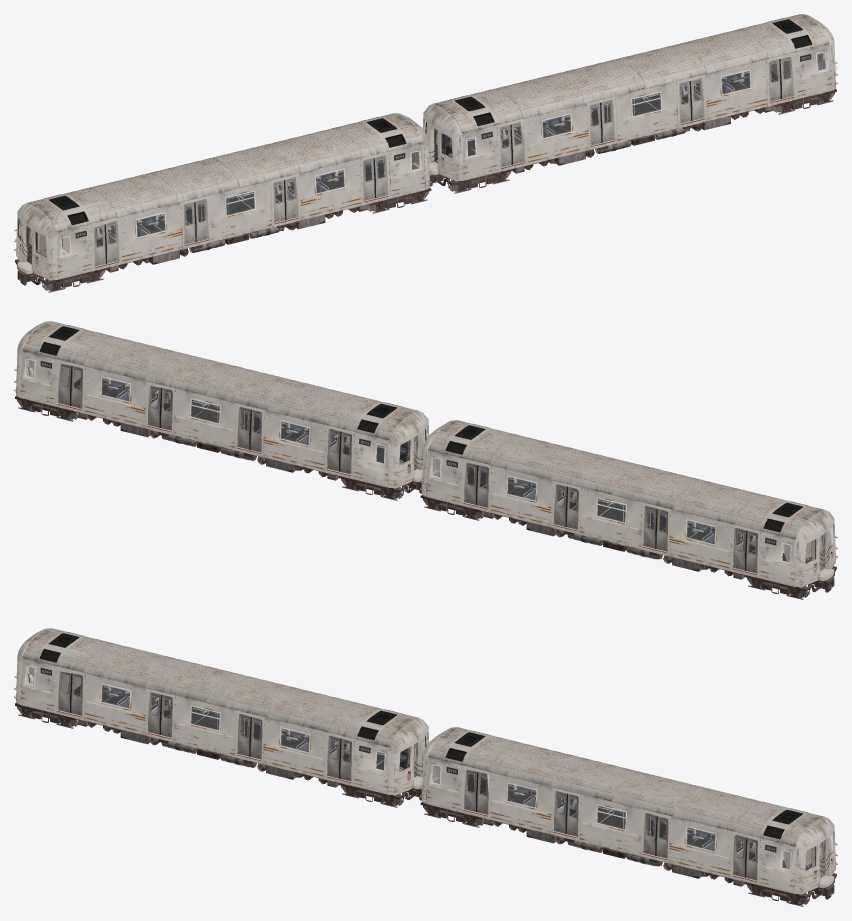
The model's file is r46-subway.glb.
3 views of the same model, one above another, from view 1: azimuth 30°, elevation 25°; view 2: azimuth 150°, elevation 25°; view 3: azimuth 330°, elevation 25° (orthographic).
Parts seen in each view (by area): view 1: AvisoCierrePuertas_LP.001_LateralTren_0, VentiladorTecho_LP.001_TechoTren_0, CristalesPuertasLaterales_LP.001_PuertasLaterales_0, EngancheCentralFrontalBajosExteriores2_LP.001_BajosExteriore, CabezaTren_LP.003_CabezaTren_0, SeparadoresSueloInterior_LP.001_SueloInterior_0, CojinAltoAsientoLateral5_LP.001_AsientosInteriores_0, CristalesFrontalesCabezaTren_LP.001_PuertaDelantera_0, RoofHex_LP.002_DriverCabin_0; view 2: AvisoCierrePuertas_LP.001_LateralTren_0, VentiladorTecho_LP.001_TechoTren_0, CristalesPuertasLaterales_LP.001_PuertasLaterales_0, EngancheCentralFrontalBajosExteriores2_LP.001_BajosExteriore, CabezaTren_LP.003_CabezaTren_0, SeparadoresSueloInterior_LP.001_SueloInterior_0, CojinAltoAsientoLateral5_LP.001_AsientosInteriores_0, CristalesFrontalesCabezaTren_LP.001_PuertaDelantera_0; view 3: AvisoCierrePuertas_LP.001_LateralTren_0, VentiladorTecho_LP.001_TechoTren_0, CristalesPuertasLaterales_LP.001_PuertasLaterales_0, EngancheCentralFrontalBajosExteriores2_LP.001_BajosExteriore, CabezaTren_LP.003_CabezaTren_0, SeparadoresSueloInterior_LP.001_SueloInterior_0, CojinAltoAsientoLateral5_LP.001_AsientosInteriores_0, CristalesFrontalesCabezaTren_LP.001_PuertaDelantera_0.
Part boxes in pixels (x1=…): AvisoCierrePuertas_LP.001_LateralTren_0: x1=30, y1=44, x2=831, y2=279; VentiladorTecho_LP.001_TechoTren_0: x1=26, y1=14, x2=829, y2=232; CristalesPuertasLaterales_LP.001_PuertasLaterales_0: x1=93, y1=56, x2=793, y2=266; EngancheCentralFrontalBajosExteriores2_LP.001_BajosExteriore: x1=15, y1=89, x2=836, y2=292; CabezaTren_LP.003_CabezaTren_0: x1=14, y1=14, x2=837, y2=280; SeparadoresSueloInterior_LP.001_SueloInterior_0: x1=96, y1=72, x2=784, y2=246; CojinAltoAsientoLateral5_LP.001_AsientosInteriores_0: x1=95, y1=72, x2=749, y2=243; CristalesFrontalesCabezaTren_LP.001_PuertaDelantera_0: x1=17, y1=53, x2=822, y2=264; RoofHex_LP.002_DriverCabin_0: x1=18, y1=35, x2=831, y2=255; AvisoCierrePuertas_LP.001_LateralTren_0: x1=20, y1=351, x2=831, y2=586; VentiladorTecho_LP.001_TechoTren_0: x1=22, y1=321, x2=825, y2=539; CristalesPuertasLaterales_LP.001_PuertasLaterales_0: x1=58, y1=363, x2=757, y2=573; EngancheCentralFrontalBajosExteriores2_LP.001_BajosExteriore: x1=15, y1=396, x2=836, y2=599; CabezaTren_LP.003_CabezaTren_0: x1=14, y1=321, x2=837, y2=587; SeparadoresSueloInterior_LP.001_SueloInterior_0: x1=67, y1=379, x2=755, y2=553; CojinAltoAsientoLateral5_LP.001_AsientosInteriores_0: x1=102, y1=379, x2=755, y2=557; CristalesFrontalesCabezaTren_LP.001_PuertaDelantera_0: x1=29, y1=360, x2=834, y2=571; AvisoCierrePuertas_LP.001_LateralTren_0: x1=20, y1=658, x2=831, y2=893; VentiladorTecho_LP.001_TechoTren_0: x1=22, y1=628, x2=825, y2=846; CristalesPuertasLaterales_LP.001_PuertasLaterales_0: x1=58, y1=671, x2=757, y2=880; EngancheCentralFrontalBajosExteriores2_LP.001_BajosExteriore: x1=15, y1=703, x2=836, y2=906; CabezaTren_LP.003_CabezaTren_0: x1=14, y1=628, x2=837, y2=894; SeparadoresSueloInterior_LP.001_SueloInterior_0: x1=67, y1=686, x2=755, y2=860; CojinAltoAsientoLateral5_LP.001_AsientosInteriores_0: x1=102, y1=686, x2=755, y2=857; CristalesFrontalesCabezaTren_LP.001_PuertaDelantera_0: x1=29, y1=667, x2=834, y2=878.
Size of the model in its own units: 49.91 by 4.34 by 4.01.
11 materials, 11 textured.
